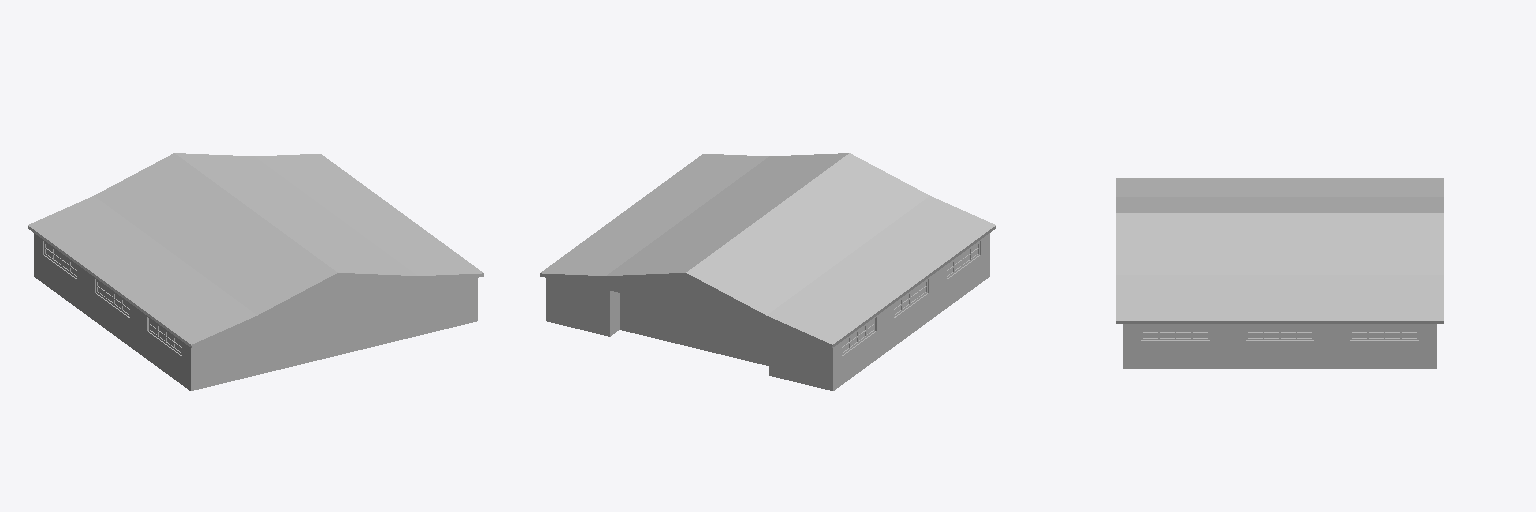
Rendered from hangar1.obj.
The picture shows the model from 3 angles: view 1: azimuth 30°, elevation 25°; view 2: azimuth 150°, elevation 25°; view 3: azimuth 270°, elevation 25°; orthographic projection.
Parts seen in each view (by area): view 1: hangar_01; view 2: hangar_01; view 3: hangar_01.
Boxes of the visible parts, box(x1,y1,x2,y2) form: hangar_01: box(28, 153, 483, 390); hangar_01: box(540, 153, 995, 390); hangar_01: box(1116, 178, 1443, 368).
Size of the model in its own units: 3.3 by 0.9268 by 3.19.